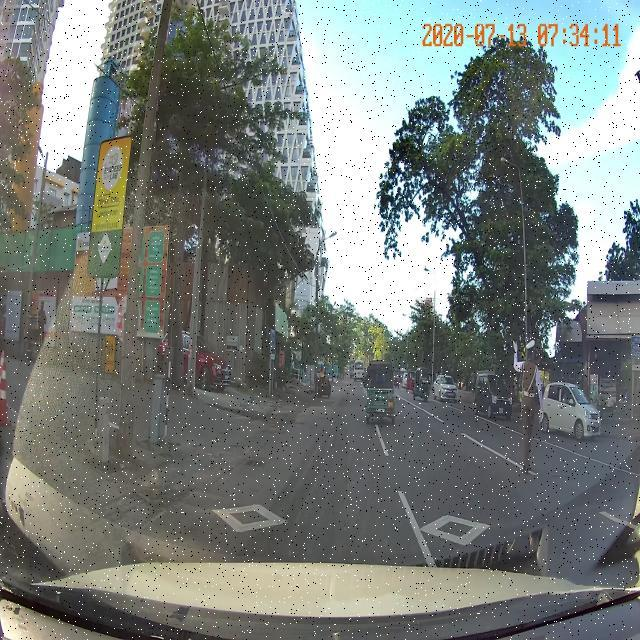diamond: (85, 462, 435, 557)
